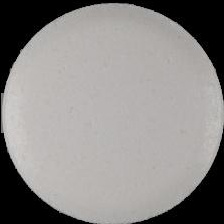68788-9667: (0, 0, 224, 224)
